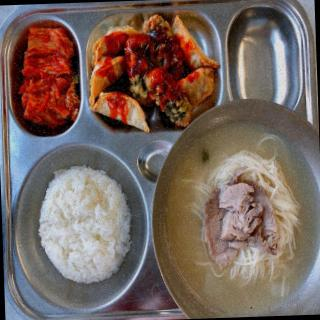Nasi: (34, 166, 137, 288)
